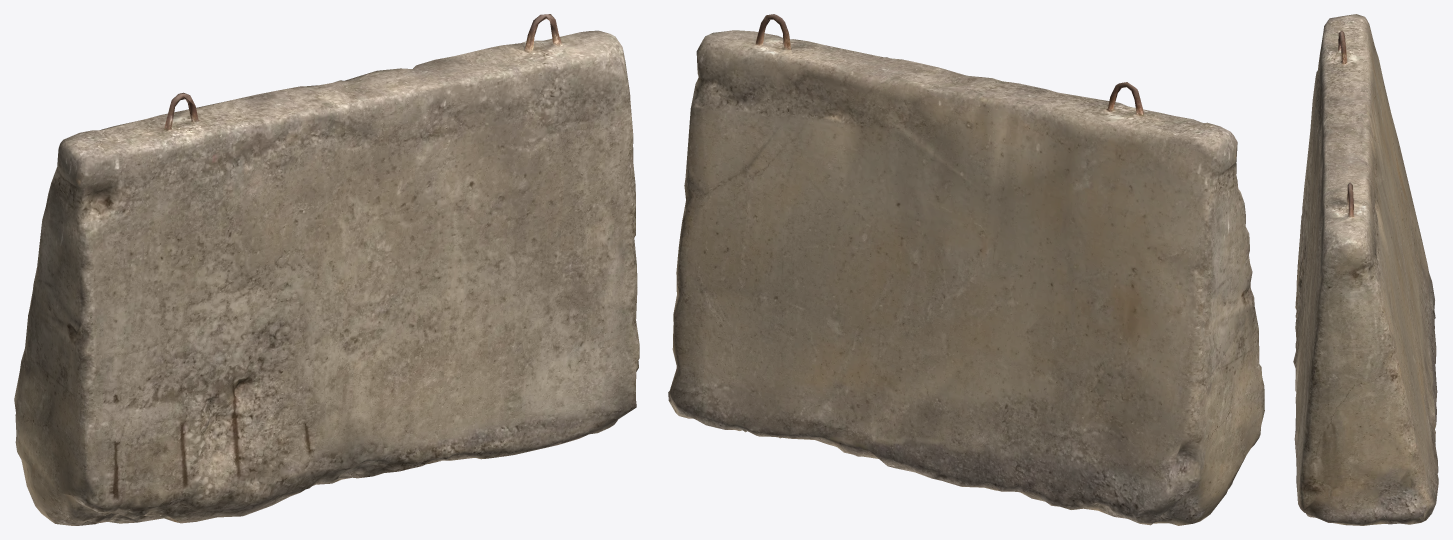
The model's file is concrete_road_barrier_02.glb.
3 views of the same model, side by side, from view 1: azimuth 30°, elevation 25°; view 2: azimuth 150°, elevation 25°; view 3: azimuth 270°, elevation 25° (orthographic). The views are drawn at different scales.
Visible parts, largest first — view 1: concrete_road_barrier_02; view 2: concrete_road_barrier_02; view 3: concrete_road_barrier_02.
Part boxes in pixels (x1,y1,x2,y2): concrete_road_barrier_02: [14, 14, 639, 525]; concrete_road_barrier_02: [668, 14, 1264, 525]; concrete_road_barrier_02: [1293, 14, 1438, 525].
Size of the model in its own units: 1.56 by 1.11 by 0.4421.
Materials: 1 (1 with a texture image).
